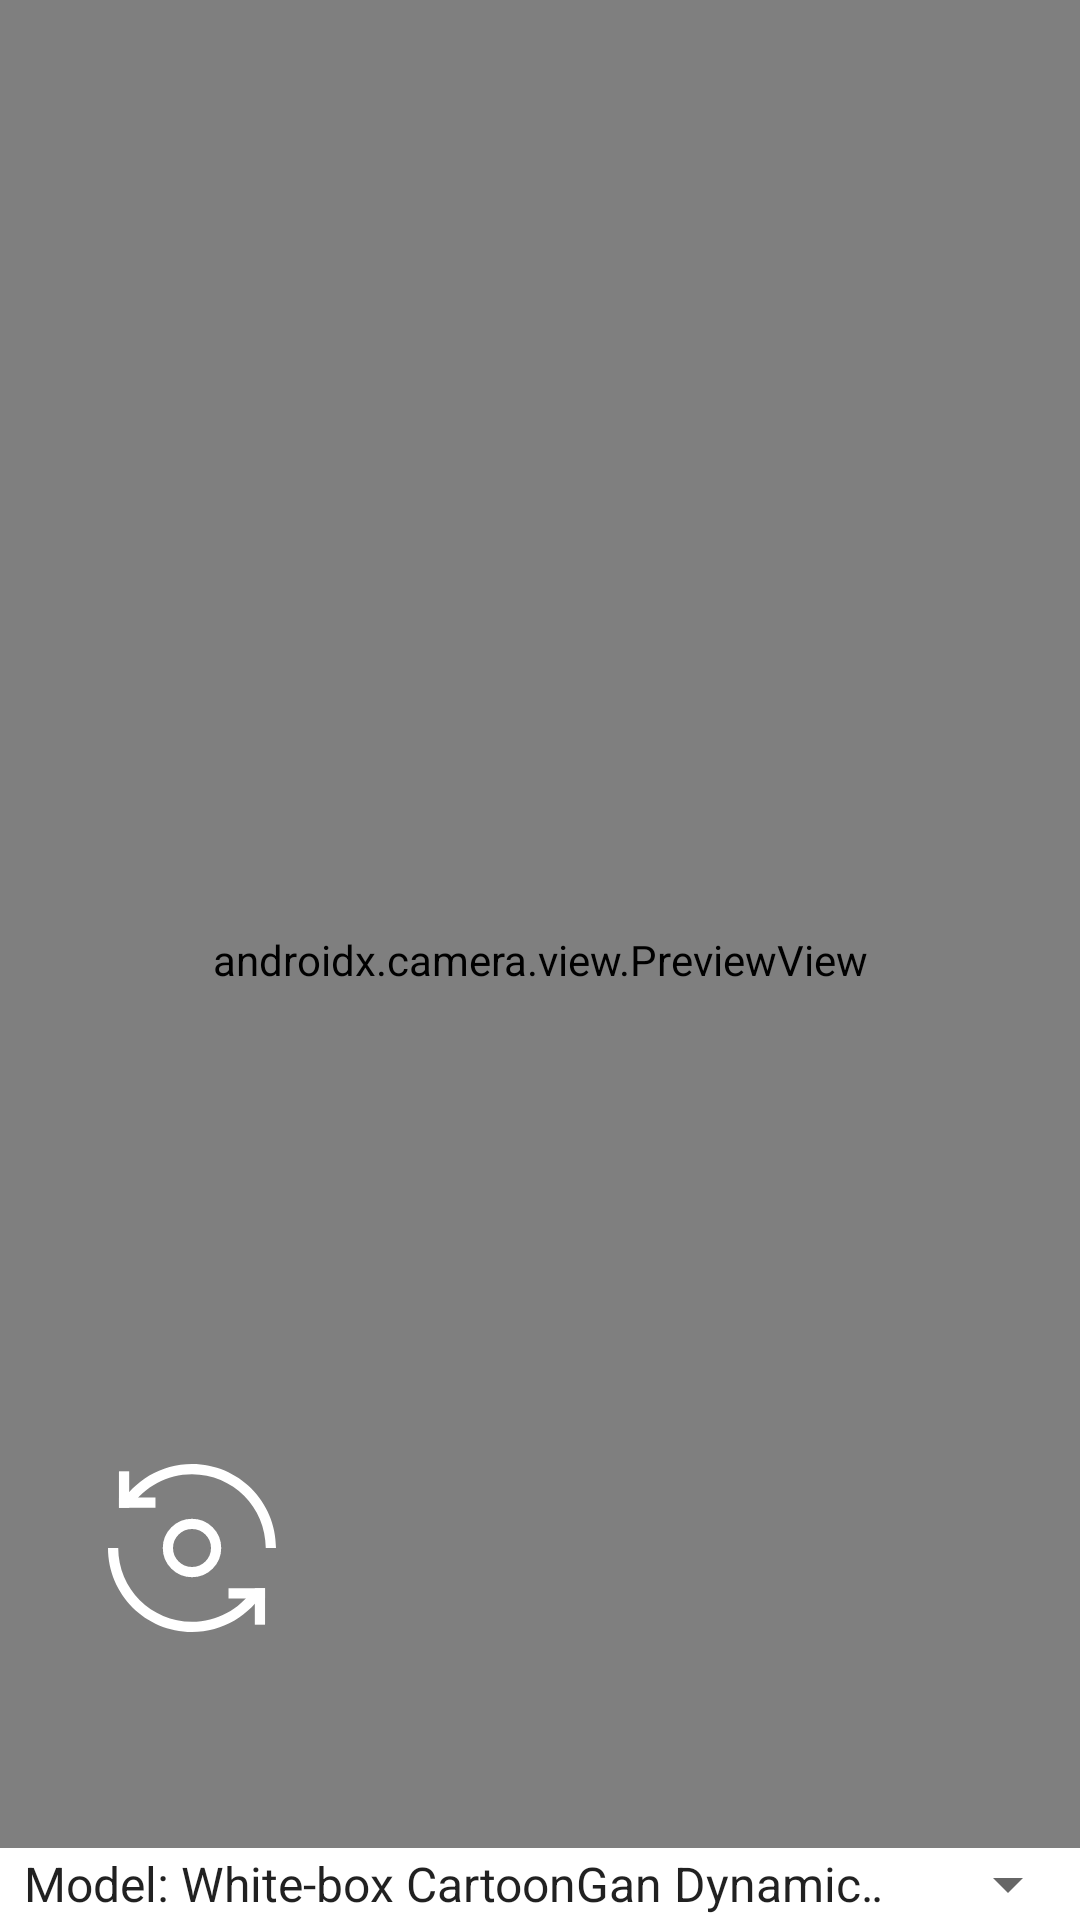

Locate icon controls on the screen. Image size 1080px×1920px, boxes as Rect(x1, y1, x2, y2).
Switch camera: Rect(108, 1464, 276, 1632)
